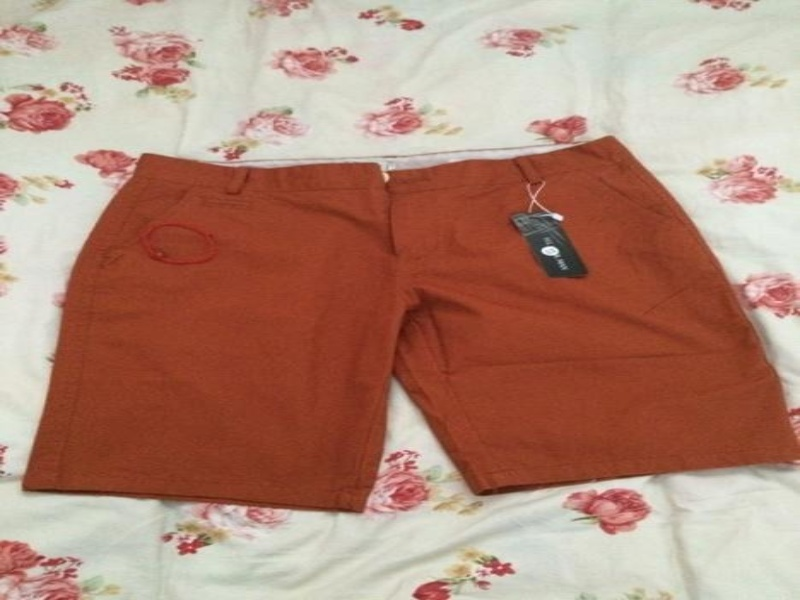shorts: (15, 132, 798, 518)
